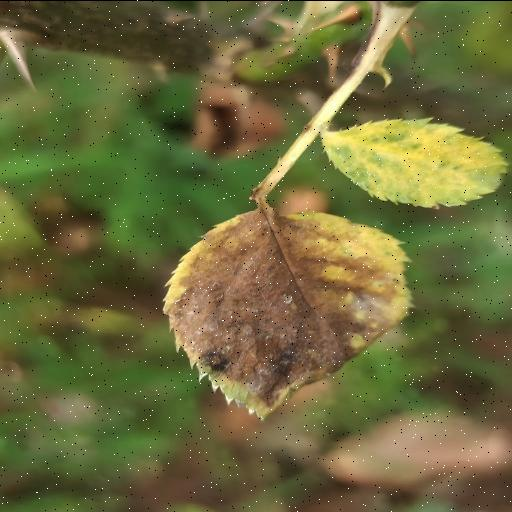thrip: (164, 203, 410, 415), (322, 118, 506, 206)
